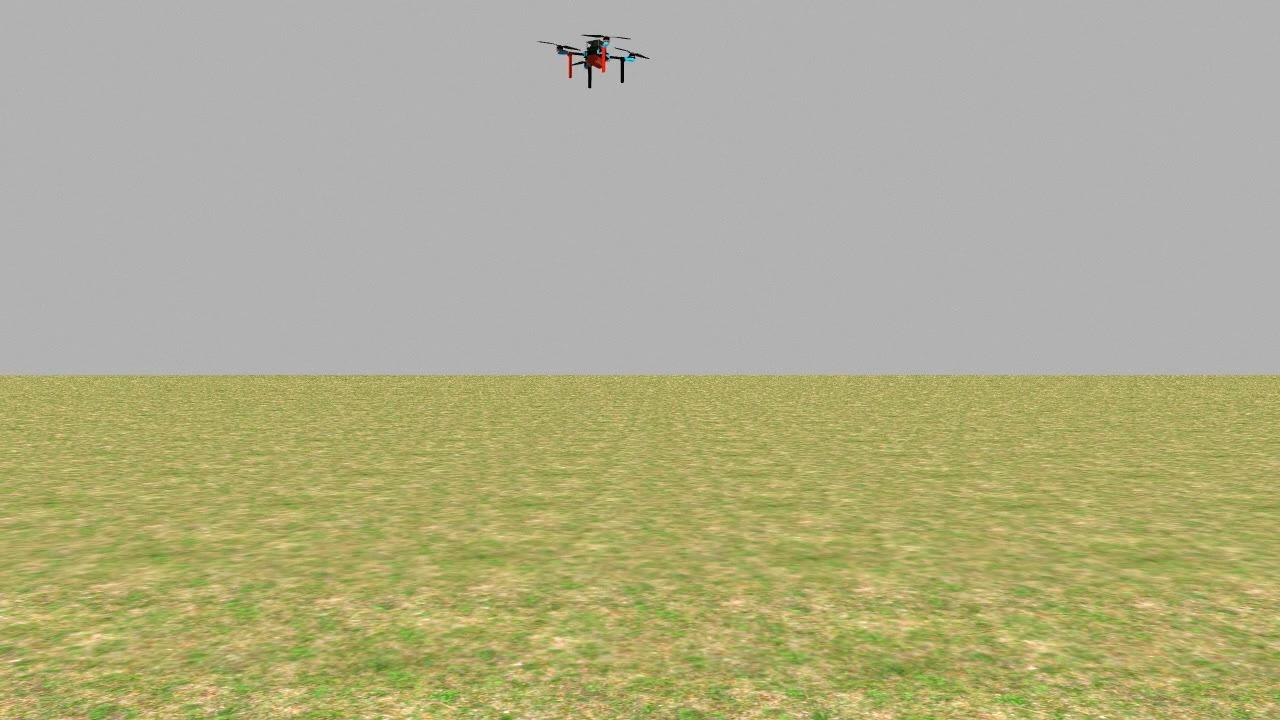UAV: (543, 31, 650, 100)
